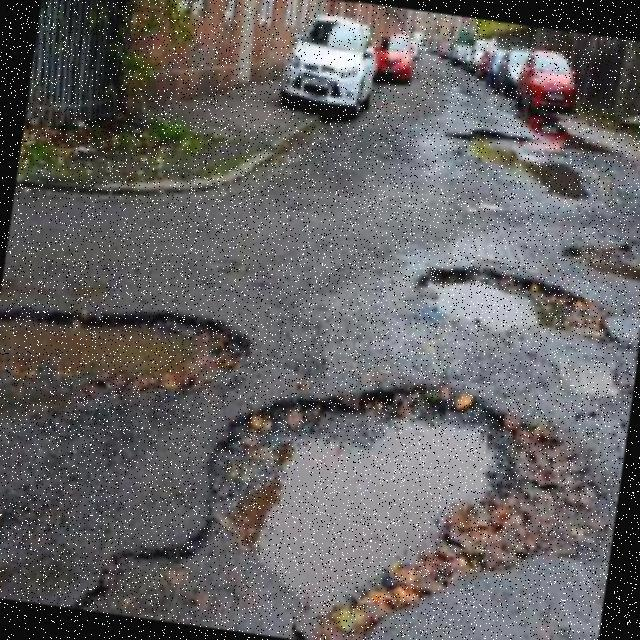Pothole: (209, 388, 518, 617), (0, 312, 248, 392), (417, 267, 611, 342)
